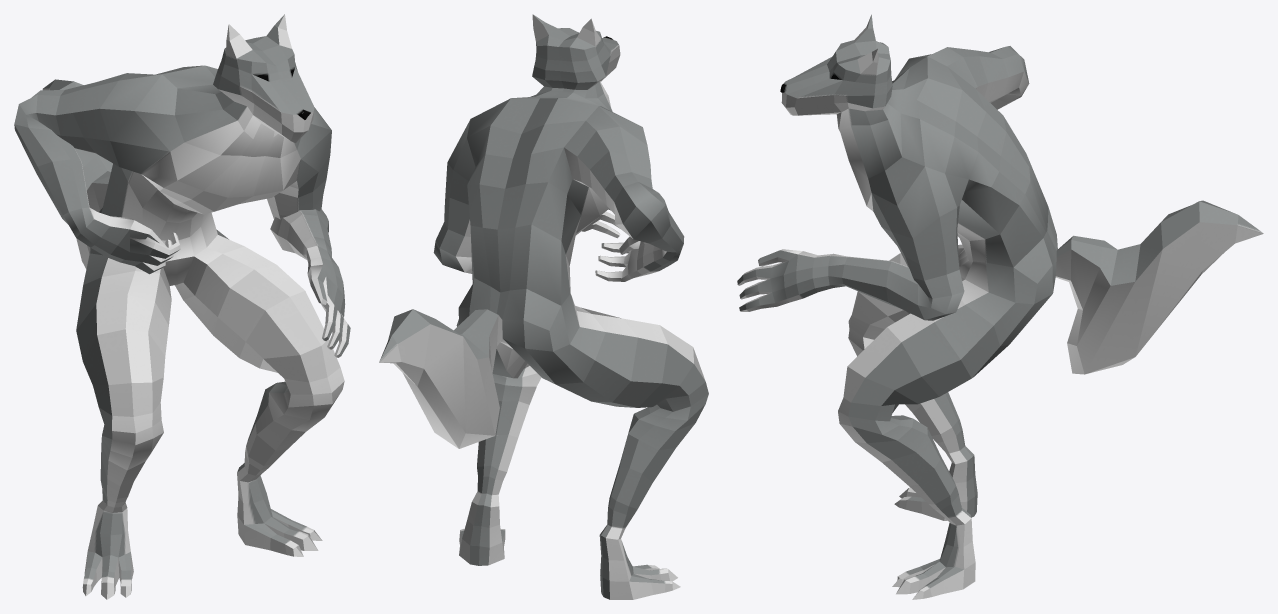
File: WolfIdle_(96).obj
3 renders of one model, left to right at view 1: azimuth 30°, elevation 25°; view 2: azimuth 150°, elevation 25°; view 3: azimuth 270°, elevation 25°, orthographic. The views are drawn at different scales.
Visible parts, largest first — view 1: Box001; view 2: Box001; view 3: Box001.
Boxes of the visible parts, x1,y1,x2,y2 form: Box001: (14, 14, 350, 599); Box001: (379, 14, 708, 599); Box001: (737, 14, 1263, 599).
Size of the model in its own units: 67.86 by 132 by 118.
